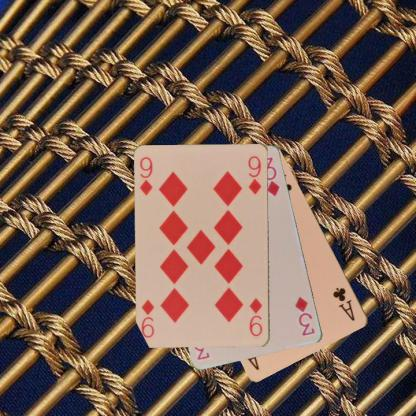3d: (293, 294, 316, 337)
9d: (247, 296, 264, 338), (138, 154, 154, 196)
Ac: (330, 285, 356, 322)
